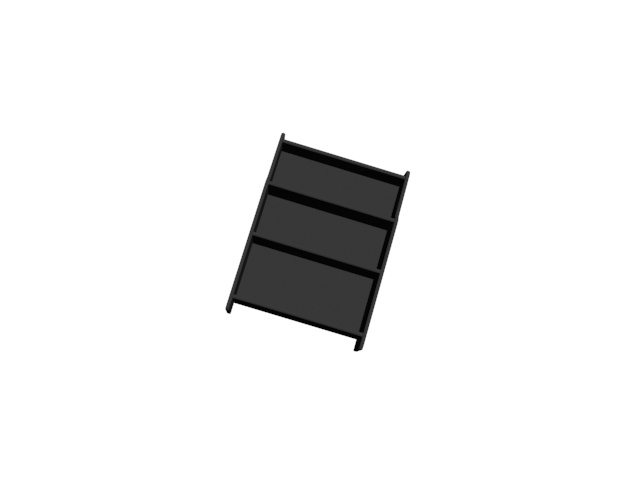bookcase: (225, 129, 416, 352)
